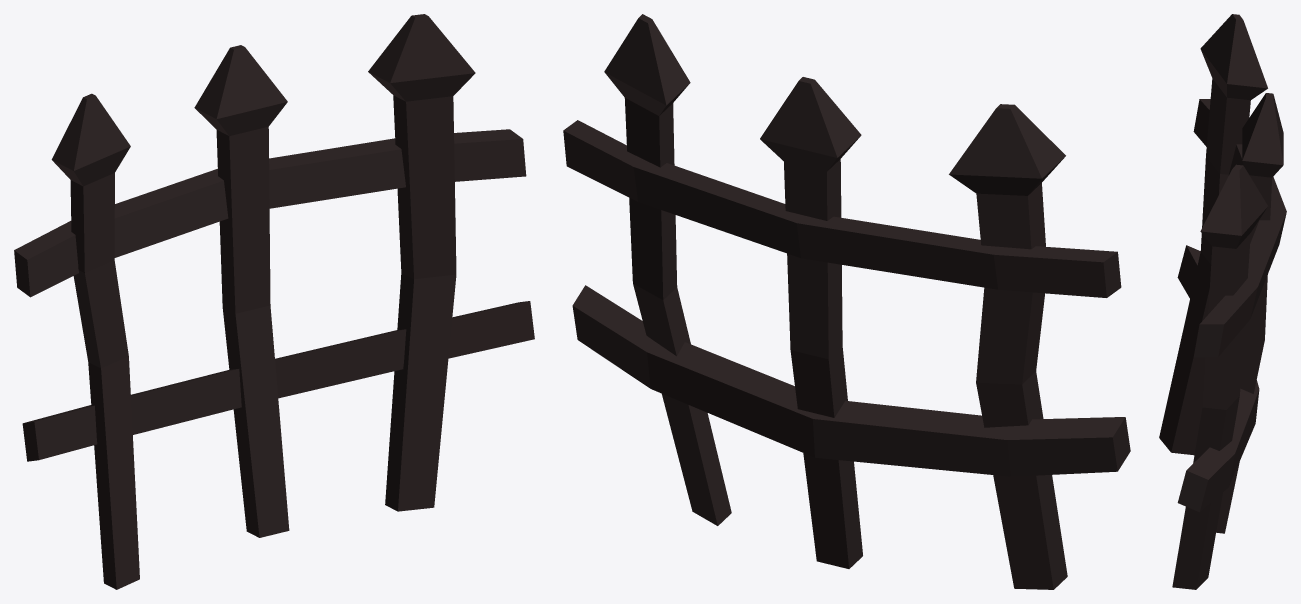
Rendered from fenceC1Skewed.glb.
The picture shows the model from 3 angles, left to right: view 1: azimuth 30°, elevation 25°; view 2: azimuth 150°, elevation 25°; view 3: azimuth 270°, elevation 25°; orthographic projection. The views are drawn at different scales.
Visible parts, largest first — view 1: fenceC1Skewed; view 2: fenceC1Skewed; view 3: fenceC1Skewed.
Part boxes in pixels (x1,y1,x2,y2): fenceC1Skewed: (14, 14, 534, 589); fenceC1Skewed: (563, 14, 1130, 589); fenceC1Skewed: (1159, 14, 1286, 589).
Bounding box in the file's own units: 1.04 × 0.932 × 0.248.
1 material, 1 textured.
